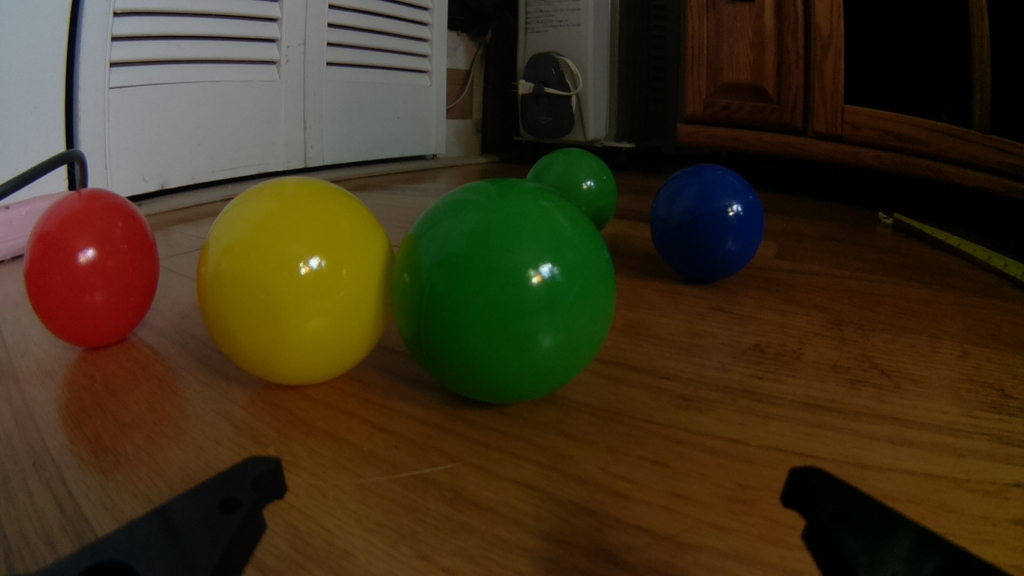ball: (524, 148, 619, 230)
